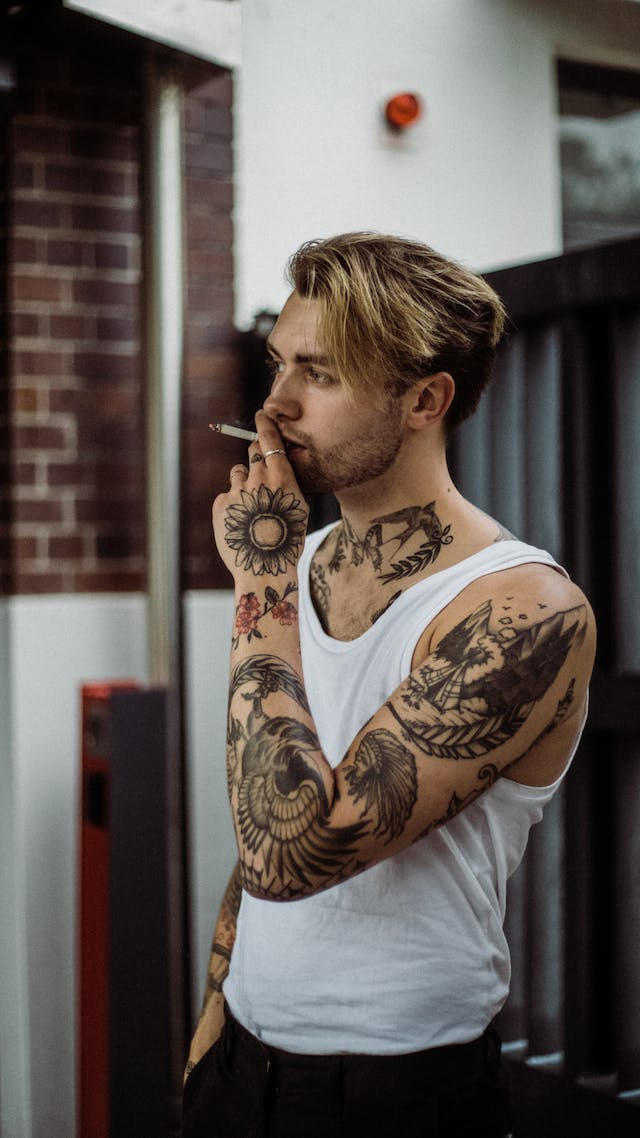Cigarette: (206, 421, 262, 446)
